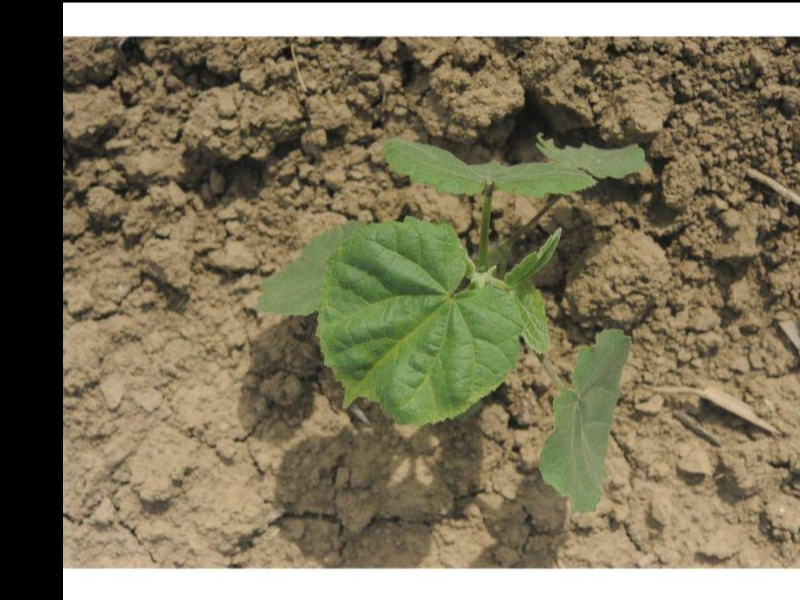velvet: (255, 138, 647, 512)
